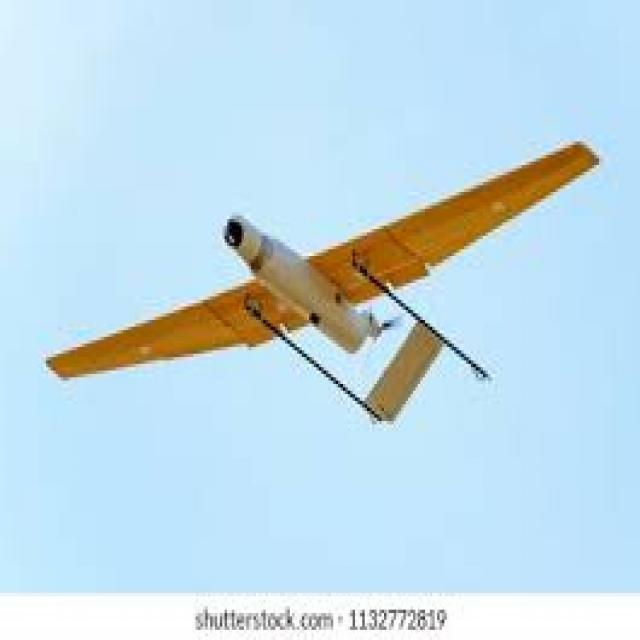iha: (52, 142, 598, 428)
